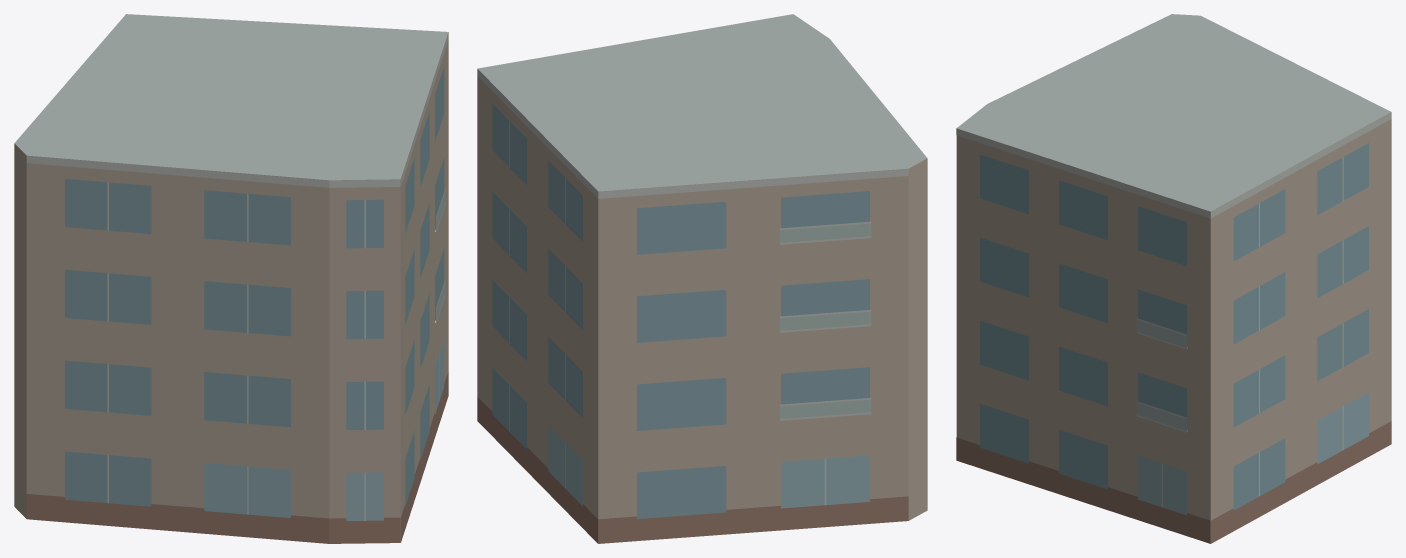
The model's file is survey-upis-32949032.glb.
The picture shows the model from 3 angles, left to right: view 1: azimuth 30°, elevation 25°; view 2: azimuth 150°, elevation 25°; view 3: azimuth 270°, elevation 25°; orthographic projection. The views are drawn at different scales.
Parts seen in each view (by area): view 1: survey-upis-32949032.tmp; view 2: survey-upis-32949032.tmp; view 3: survey-upis-32949032.tmp.
Boxes of the visible parts, x1,y1,x2,y2 form: survey-upis-32949032.tmp: [14, 14, 448, 543]; survey-upis-32949032.tmp: [477, 14, 927, 543]; survey-upis-32949032.tmp: [956, 14, 1391, 543].
Bounding box in the file's own units: 14.93 × 11.7 × 13.89.
